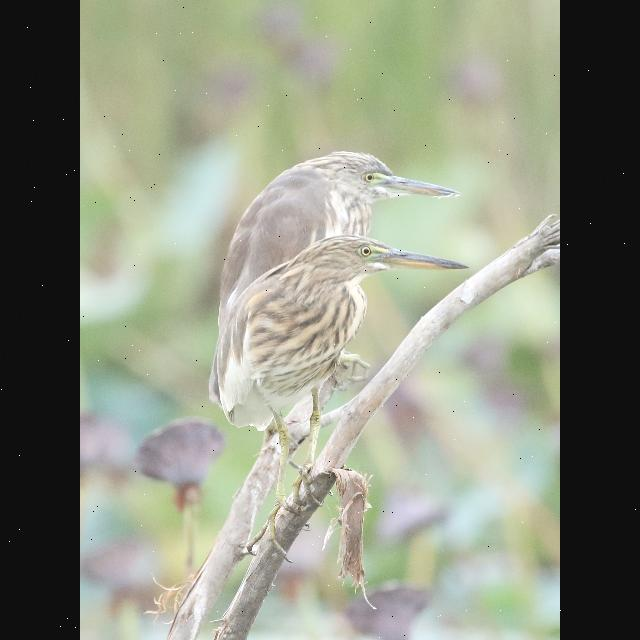heron: (208, 230, 472, 436)
